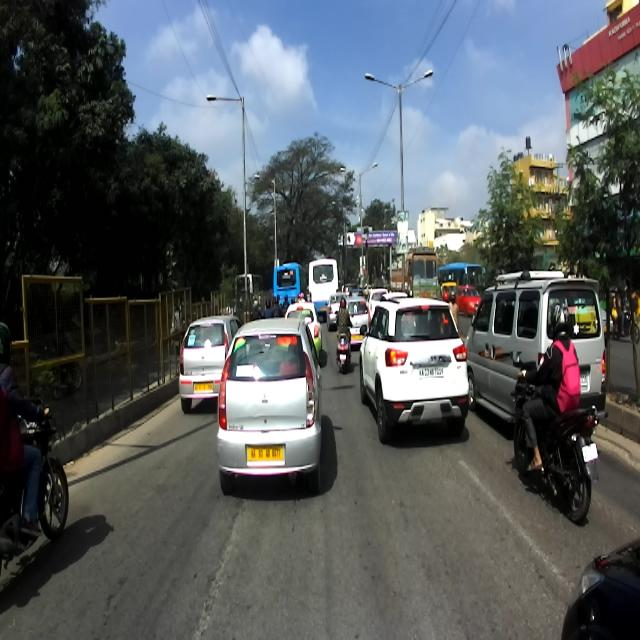car ahead at: (217, 314, 329, 508), (356, 296, 469, 438)
motorcycle ahead at: (507, 395, 602, 531), (32, 408, 72, 542)
